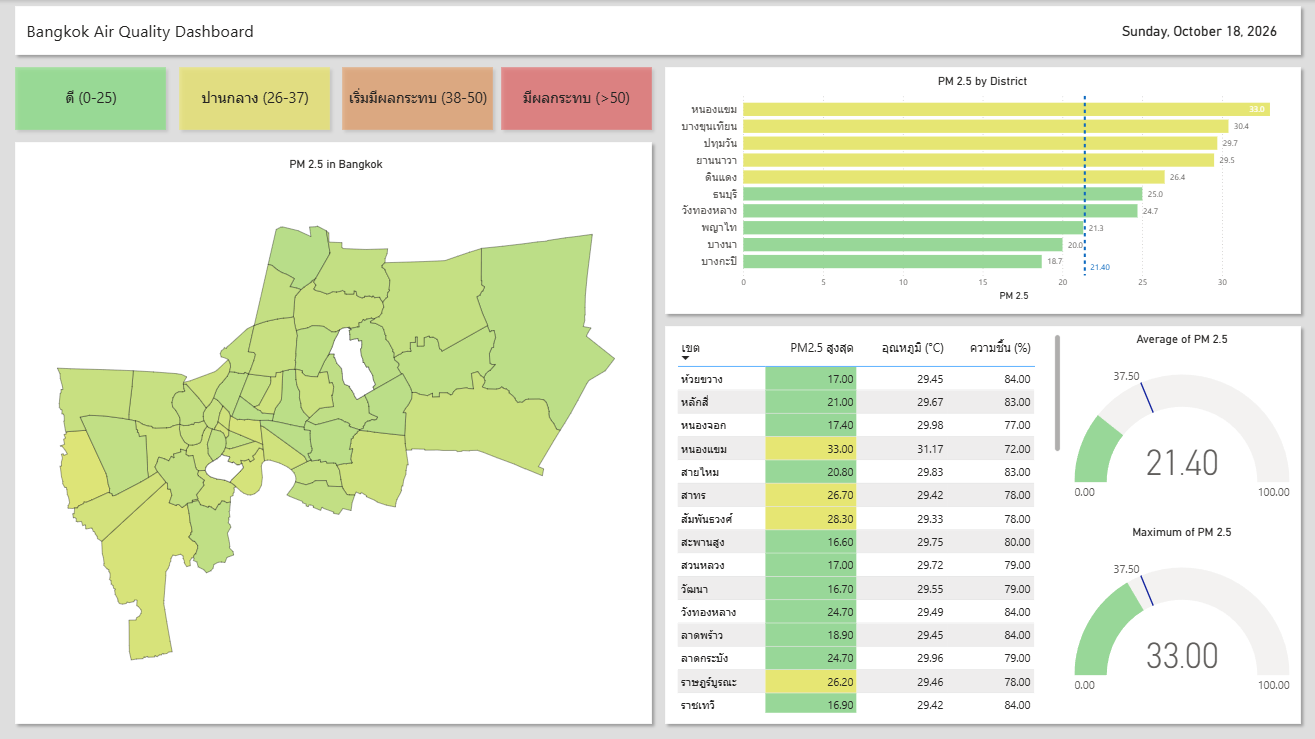

This screenshot's page, from the dashboard's own definition file:
{"tool":"powerbi","page":{"name":"Page 1","canvas":[1920,1080],"ordinal":0},"visuals":[{"type":"shape","box":[961.5,466.9,945.4,598.2],"z":0},{"type":"shape","box":[13.1,198.4,946.9,866.6],"z":1000},{"type":"shapeMap","title":"PM 2.5 in Bangkok","fields":{"Category":["public bkk_air_quality.District_Final"],"Value":["Max(public bkk_air_quality.pm25)"]},"box":[33.6,229.1,913.3,815.6],"z":2000},{"type":"shape","box":[13.1,89,237.8,109.4],"z":3000},{"type":"shape","box":[252.4,89,237.8,109.4],"z":4000},{"type":"shape","box":[490.2,89,237.8,109.4],"z":5000},{"type":"shape","box":[722.2,89,237.8,109.4],"z":6000},{"type":"textbox","box":[68.6,122.6,128.4,42.3],"z":7000},{"type":"textbox","box":[262.6,122.6,218.8,42.3],"z":8000},{"type":"textbox","box":[499,122.6,221.8,42.3],"z":9000},{"type":"textbox","box":[747,122.6,188.2,42.3],"z":10000},{"type":"shape","box":[13.1,0,1893.7,89],"z":11000},{"type":"gauge","title":"Average of PM 2.5","fields":{"Y":["Avg(public bkk_air_quality.pm25)"]},"box":[1562.6,484.4,323.9,280.1],"z":12000},{"type":"shape","box":[961.5,89,945.4,377.9],"z":13000},{"type":"clusteredBarChart","title":"PM 2.5 by District","fields":{"Category":["public bkk_air_quality.District_Final"],"Y":["Max(public bkk_air_quality.pm25)"]},"box":[980.4,108,906,335.6],"z":14000},{"type":"tableEx","fields":{"Values":["public bkk_air_quality.District_Final","Max(public bkk_air_quality.pm25)","Max(public bkk_air_quality.temp)","Max(public bkk_air_quality.humidity)"]},"box":[983.3,482.9,569,561.7],"z":15000},{"type":"gauge","title":"Maximum of PM 2.5","fields":{"Y":["Max(public bkk_air_quality.pm25)"]},"box":[1562.6,766,323.9,280.1],"z":16000},{"type":"card","fields":{"Values":["Max(public bkk_air_quality.record_date)"]},"box":[1613.6,17.5,272.8,54],"z":17000},{"type":"textbox","box":[33.6,23.3,391,43.8],"z":18000}]}

Visuals, with their boxes in screenshot pixels (x1, y1, x2, y2), scaled from the page's 1920x1080 canvas onto the 1315x739 screenshot:
shape: x1=659, y1=319, x2=1306, y2=729
shape: x1=9, y1=136, x2=658, y2=729
"PM 2.5 in Bangkok" shapeMap: x1=23, y1=157, x2=649, y2=715
shape: x1=9, y1=61, x2=172, y2=136
shape: x1=173, y1=61, x2=336, y2=136
shape: x1=336, y1=61, x2=499, y2=136
shape: x1=495, y1=61, x2=658, y2=136
textbox: x1=47, y1=84, x2=135, y2=113
textbox: x1=180, y1=84, x2=330, y2=113
textbox: x1=342, y1=84, x2=494, y2=113
textbox: x1=512, y1=84, x2=641, y2=113
shape: x1=9, y1=0, x2=1306, y2=61
"Average of PM 2.5" gauge: x1=1070, y1=331, x2=1292, y2=523
shape: x1=659, y1=61, x2=1306, y2=319
"PM 2.5 by District" clusteredBarChart: x1=671, y1=74, x2=1292, y2=304
tableEx - public bkk_air_quality.District_Final x Max(public bkk_air_quality.pm25): x1=673, y1=330, x2=1063, y2=715
"Maximum of PM 2.5" gauge: x1=1070, y1=524, x2=1292, y2=716
card - Max(public bkk_air_quality.record_date): x1=1105, y1=12, x2=1292, y2=49
textbox: x1=23, y1=16, x2=291, y2=46
